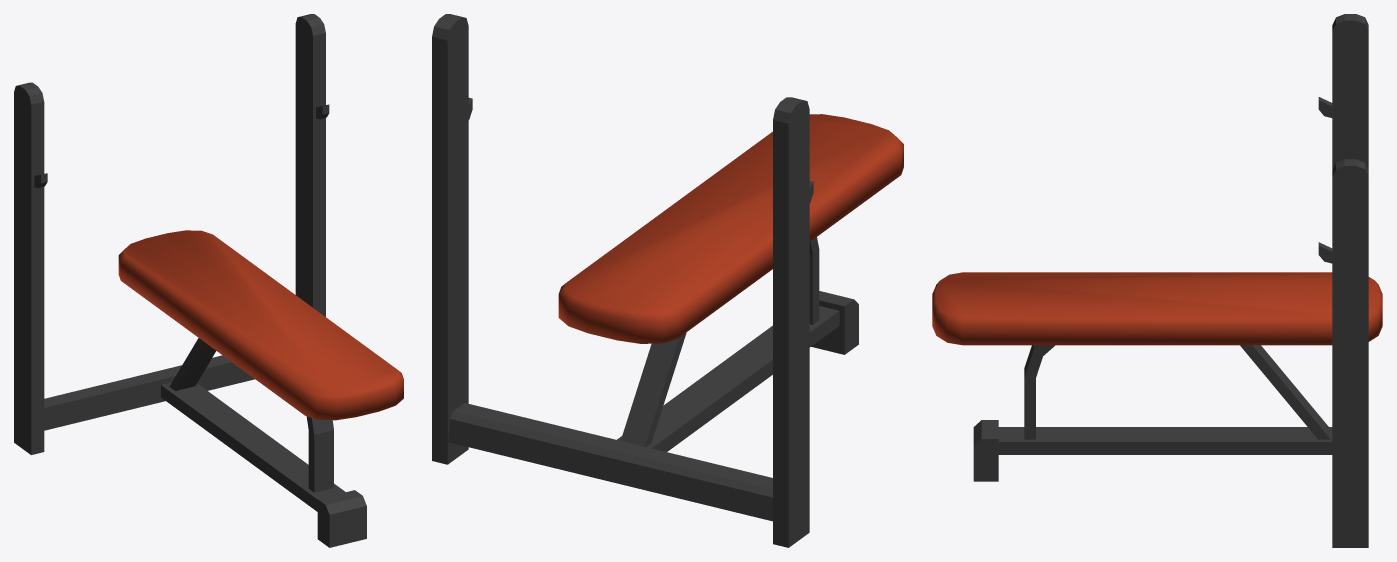
File: Bench_Press.fbx
The picture shows the model from 3 angles, left to right: view 1: azimuth 30°, elevation 25°; view 2: azimuth 150°, elevation 25°; view 3: azimuth 270°, elevation 25°; orthographic projection. The views are drawn at different scales.
Parts seen in each view (by area): view 1: Bench_Press; view 2: Bench_Press; view 3: Bench_Press.
Boxes of the visible parts, bbox=[...] form: Bench_Press: bbox=[14, 14, 403, 547]; Bench_Press: bbox=[432, 14, 903, 547]; Bench_Press: bbox=[932, 14, 1382, 547].
Size of the model in its own units: 101 by 118 by 126.
